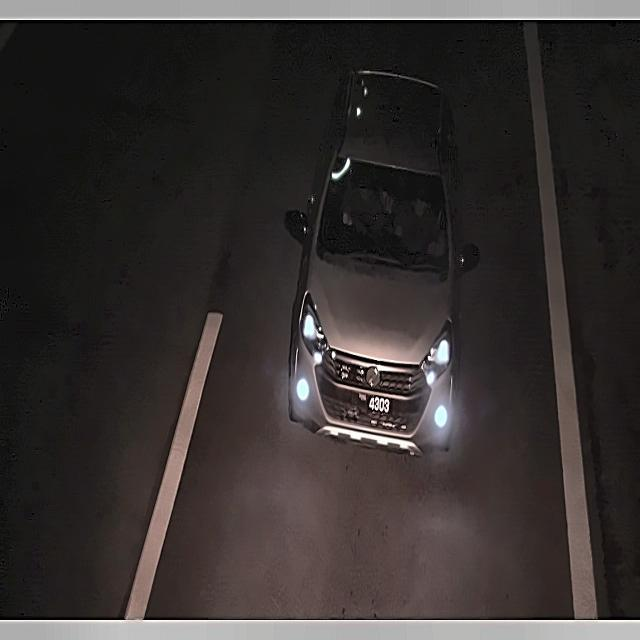car: (361, 391, 400, 418)
